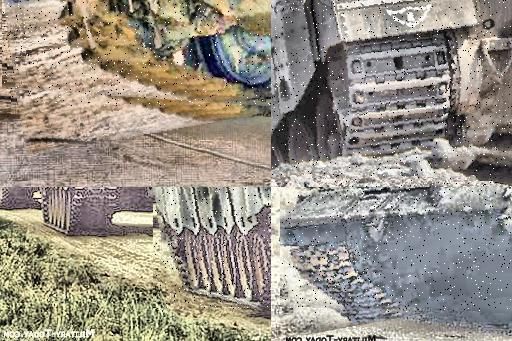tanks: (272, 1, 512, 170), (282, 188, 512, 314), (4, 1, 272, 107), (155, 188, 272, 310), (41, 188, 165, 236), (1, 188, 40, 210)
